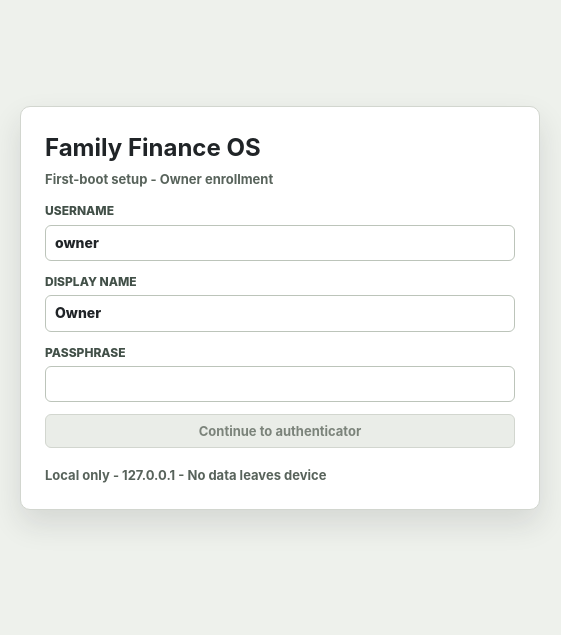
Test: shows recovery codes before enrollment acknowledgment
Check: the text "First-boot setup - Owner enrollment" is shown, box left=45, top=170, right=273, bottom=186
Check: the field labelled "I have saved the recovery codes." is not shown
In the password field labelled "Passphrase": {"x": 280, "y": 384} left=45, top=366, right=515, bottom=402, type "correct horse battery staple"
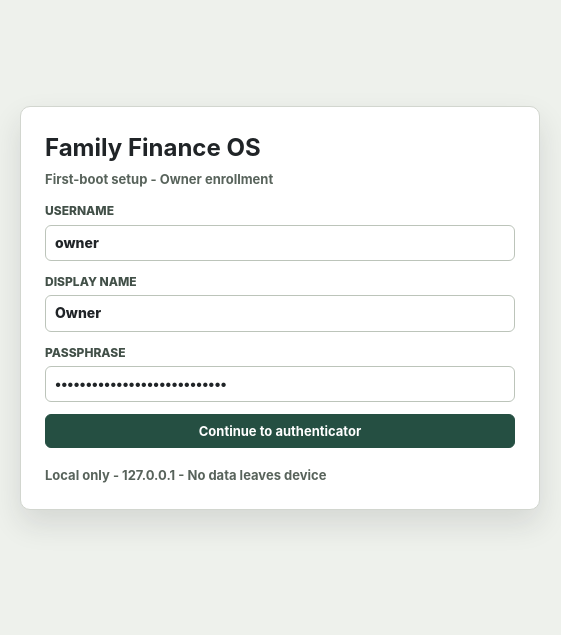
Click the button "Continue to authenticator": {"x": 280, "y": 431} left=45, top=414, right=515, bottom=448
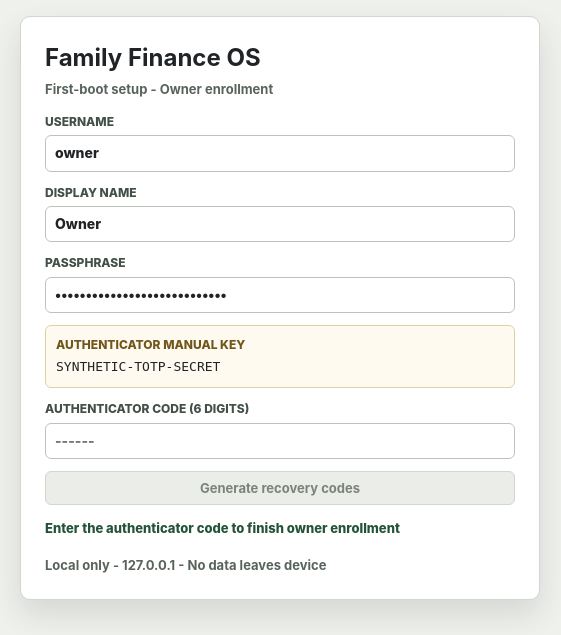
Check: the text "SYNTHETIC-TOTP-SECRET" is shown, box left=56, top=359, right=220, bottom=374
In the field labelled "Authenticator code (6 digits)": {"x": 280, "y": 441} left=45, top=423, right=515, bottom=459, type "123456"
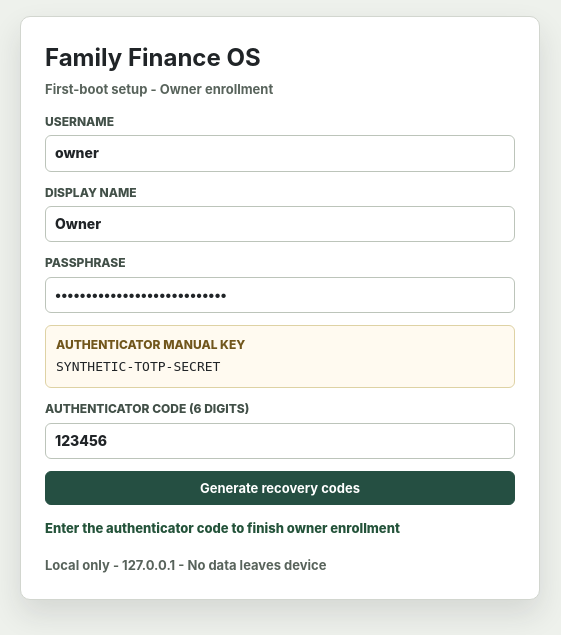
Click the button "Generate recovery codes": {"x": 280, "y": 488} left=45, top=471, right=515, bottom=505
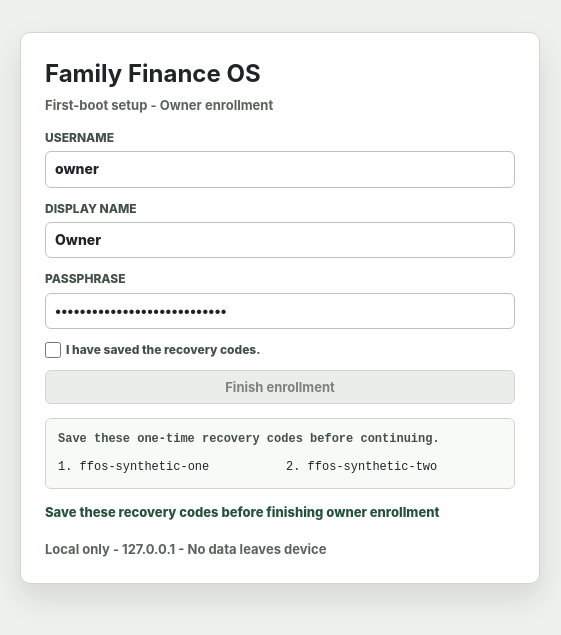
Check: the checkbox labelled "I have saved the recovery codes." is shown, box left=45, top=342, right=61, bottom=358
Check: the text "1. ffos-synthetic-one" is shown, box left=58, top=460, right=209, bottom=474
Check: the button "Finish enrollment" is disabled, box left=45, top=370, right=515, bottom=404
